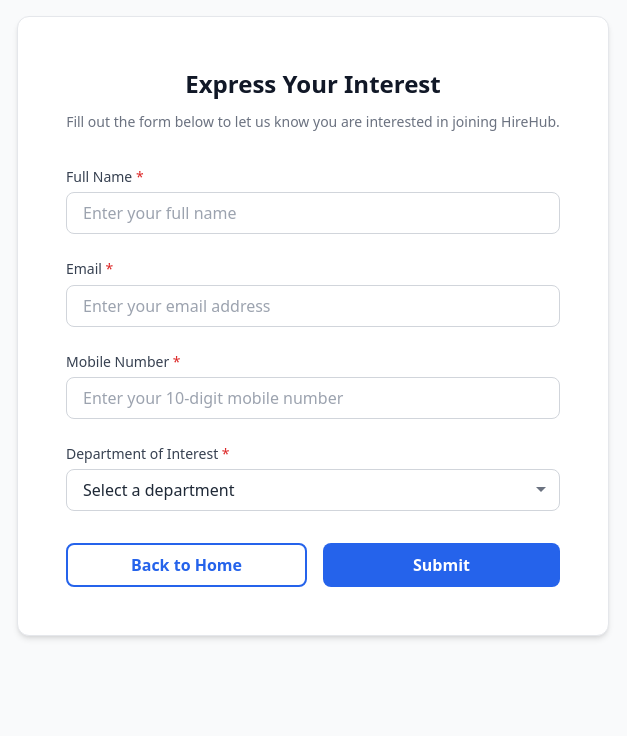
it: InterestForm › validation for empty fields › shows all validation errors on submit with empty form
The image size is (627, 736).
Click the button "Submit" at (442, 565), box [323,543,560,587]
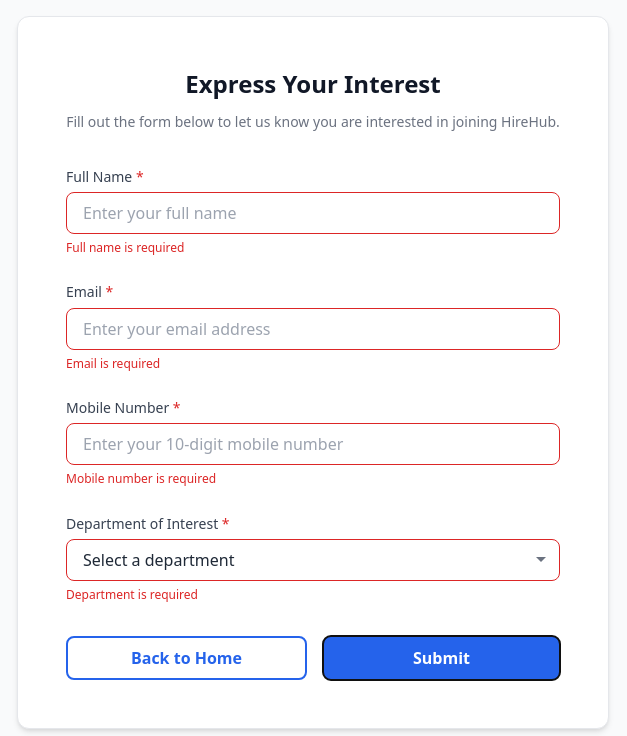
Expected: the text "Full name is required" is shown, [66,239,184,256]
Expected: the text "Email is required" is shown, [66,355,160,372]
Expected: the text "Mobile number is required" is shown, [66,470,216,487]
